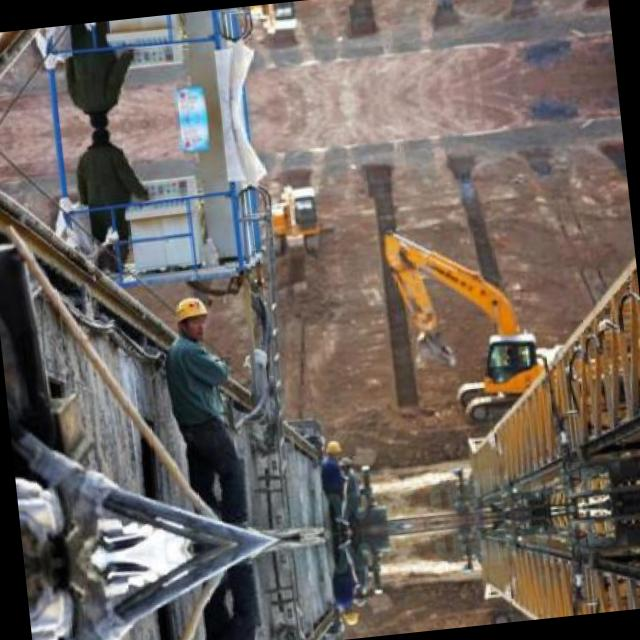helmet: (170, 291, 210, 342), (318, 436, 342, 460), (336, 604, 360, 628)
